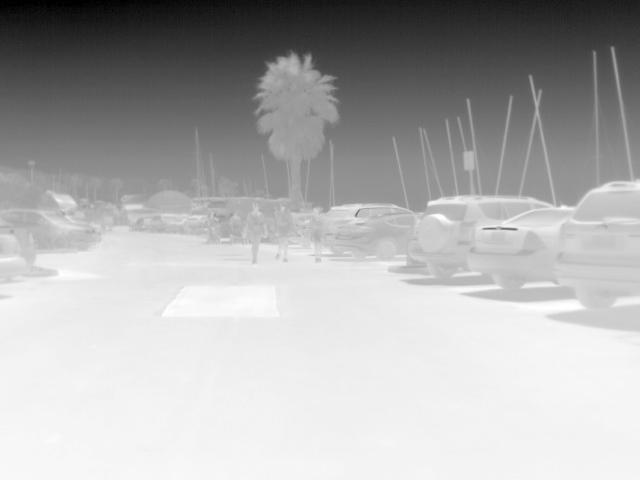car: (409, 195, 548, 279), (552, 178, 639, 311), (469, 204, 578, 289), (1, 204, 100, 254), (330, 213, 428, 260), (329, 202, 410, 230), (2, 220, 39, 262), (0, 236, 29, 278), (36, 189, 79, 215), (147, 211, 189, 235)
person: (241, 199, 270, 263), (273, 202, 295, 266), (305, 206, 327, 264), (203, 209, 220, 227)
